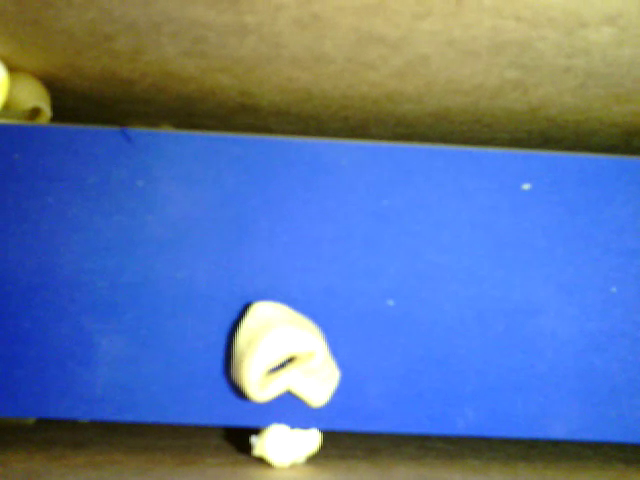shell: (5, 71, 56, 126)
tortellini: (225, 297, 342, 407)
